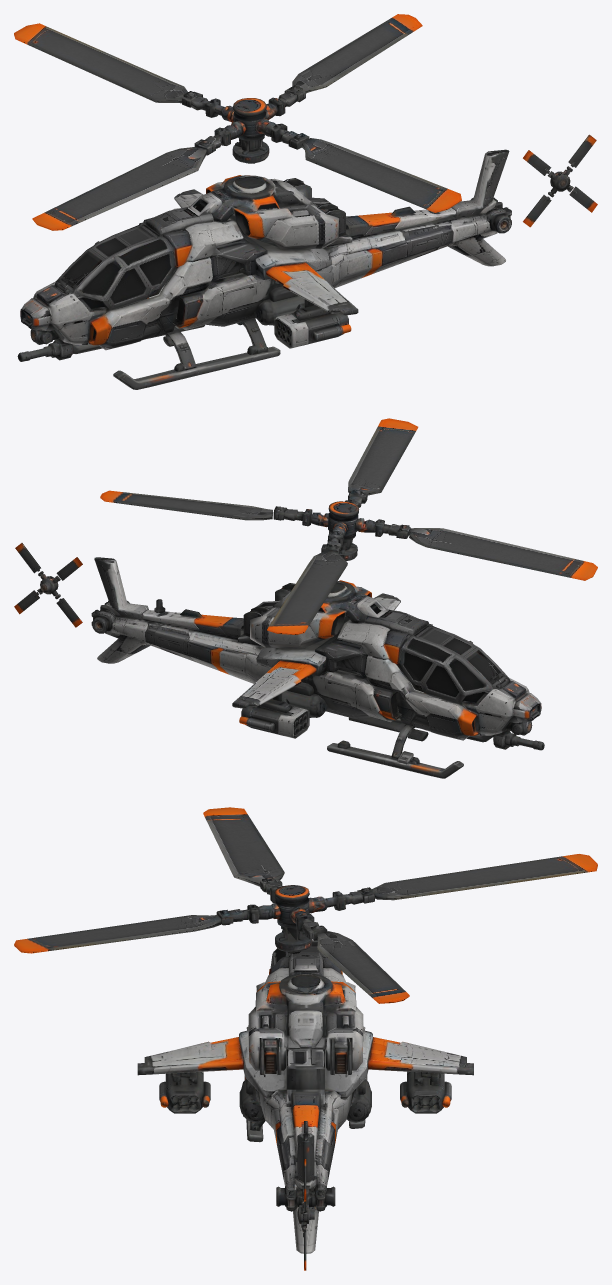
File: heli.glb
The picture shows the model from 3 angles, top to bottom: view 1: azimuth 30°, elevation 25°; view 2: azimuth 150°, elevation 25°; view 3: azimuth 270°, elevation 25°; orthographic projection. The views are drawn at different scales.
Visible parts, largest first — view 1: Heli_Body, Heli_MainRotor, Heli_TailRotor; view 2: Heli_Body, Heli_MainRotor, Heli_TailRotor; view 3: Heli_Body, Heli_MainRotor.
Boxes of the visible parts, x1,y1,x2,y2 form: Heli_Body: (17,149,551,389); Heli_MainRotor: (14,14,461,230); Heli_TailRotor: (546,134,597,212); Heli_Body: (56,557,544,778); Heli_MainRotor: (100,418,597,634); Heli_TailRotor: (14,543,61,614); Heli_Body: (137,940,473,1253); Heli_MainRotor: (14,807,597,1003).
Size of the model in its own units: 0.9995 by 0.3833 by 0.8188.
Materials: 1 (1 with a texture image).
